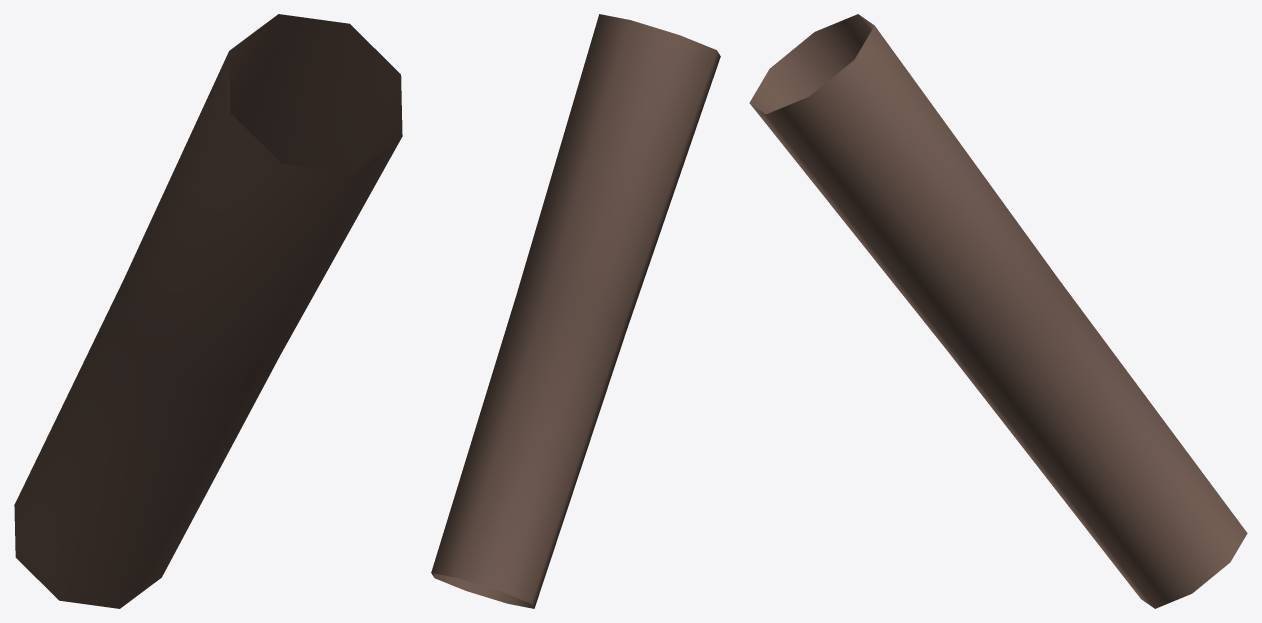
File: Robin_Body_Limb1L.fbx
3 renders of one model, left to right at view 1: azimuth 30°, elevation 25°; view 2: azimuth 150°, elevation 25°; view 3: azimuth 270°, elevation 25°, orthographic. The views are drawn at different scales.
Parts seen in each view (by area): view 1: Robin_Body_Limb1L; view 2: Robin_Body_Limb1L; view 3: Robin_Body_Limb1L.
Part boxes in pixels (left/top/right/bottom): Robin_Body_Limb1L: left=14, top=14, right=402, bottom=608; Robin_Body_Limb1L: left=431, top=14, right=720, bottom=608; Robin_Body_Limb1L: left=749, top=14, right=1247, bottom=608.
Bounding box in the file's own units: 0.1355 × 0.5528 × 0.4379.
